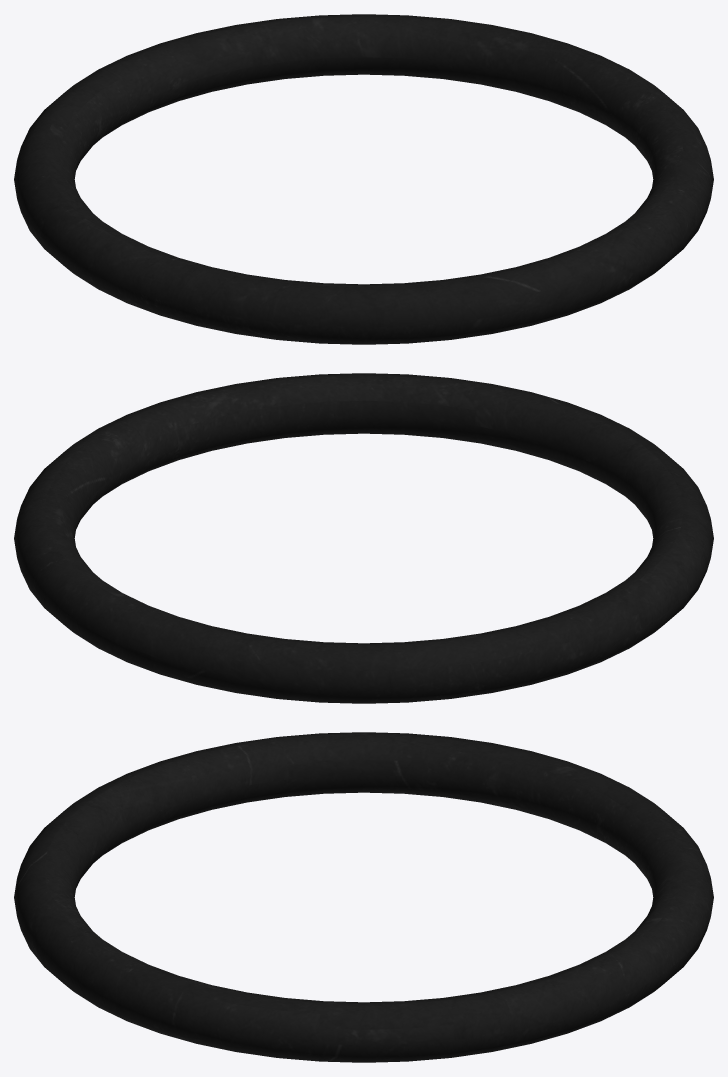
Rendered from O ring.fbx.
3 renders of one model, top to bottom at view 1: azimuth 30°, elevation 25°; view 2: azimuth 150°, elevation 25°; view 3: azimuth 270°, elevation 25°, orthographic.
Visible parts, largest first — view 1: Torus.001; view 2: Torus.001; view 3: Torus.001.
Boxes of the visible parts, x1,y1,x2,y2 form: Torus.001: [14, 14, 713, 344]; Torus.001: [14, 373, 713, 703]; Torus.001: [14, 732, 713, 1062].
Size of the model in its own units: 56.2 by 4.88 by 56.2.
1 material, 1 textured.
